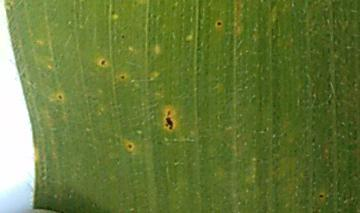tarspot: (162, 111, 177, 132), (125, 140, 134, 154), (98, 57, 109, 68), (214, 18, 224, 29), (55, 91, 64, 103), (316, 191, 326, 201), (118, 72, 127, 81)
